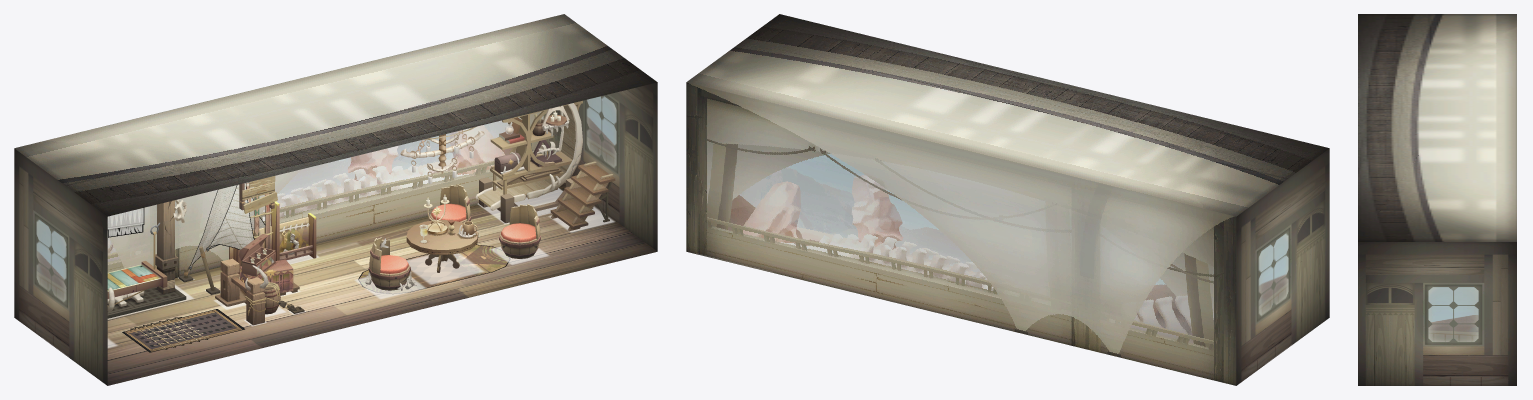
The model's file is shipRoom.glb.
3 renders of one model, left to right at view 1: azimuth 30°, elevation 25°; view 2: azimuth 150°, elevation 25°; view 3: azimuth 270°, elevation 25°, orthographic. The views are drawn at different scales.
Parts seen in each view (by area): view 1: ROOM_room, ROOM_floor, furni_shipRoom_shipshelf_01, furni_shipRoom_bed_01, furni_shipRoom_box_01, furni_shipRoom_shelf_01, furni_shipRoom_carpet_01, furni_shipRoom_gridcarpet_01, furni_shipRoom_shelf_04, furni_shipRoom_ladder_01, furni_shipRoom_table_01, furni_shipRoom_rightchair_01 (+11 smaller); view 2: ROOM_room, ROOM_LDoor; view 3: ROOM_room, ROOM_RDoor.
Boxes of the visible parts, left/top/right/bottom form: ROOM_room: left=14, top=14, right=657, bottom=385; ROOM_floor: left=107, top=184, right=657, bottom=385; furni_shipRoom_shipshelf_01: left=475, top=100, right=582, bottom=223; furni_shipRoom_bed_01: left=107, top=199, right=186, bottom=318; furni_shipRoom_box_01: left=215, top=258, right=304, bottom=325; furni_shipRoom_shelf_01: left=179, top=183, right=316, bottom=294; furni_shipRoom_carpet_01: left=358, top=244, right=510, bottom=293; furni_shipRoom_gridcarpet_01: left=122, top=309, right=244, bottom=352; furni_shipRoom_shelf_04: left=188, top=182, right=309, bottom=269; furni_shipRoom_ladder_01: left=550, top=161, right=615, bottom=231; furni_shipRoom_table_01: left=406, top=219, right=478, bottom=272; furni_shipRoom_rightchair_01: left=499, top=204, right=540, bottom=258; ROOM_room: left=686, top=14, right=1329, bottom=385; ROOM_LDoor: left=1297, top=251, right=1315, bottom=341; ROOM_room: left=1358, top=14, right=1516, bottom=385; ROOM_RDoor: left=1381, top=320, right=1414, bottom=385.
Bounding box in the file's own units: 7.52 × 2.2 × 2.23.
Materials: 7 (7 with a texture image).
